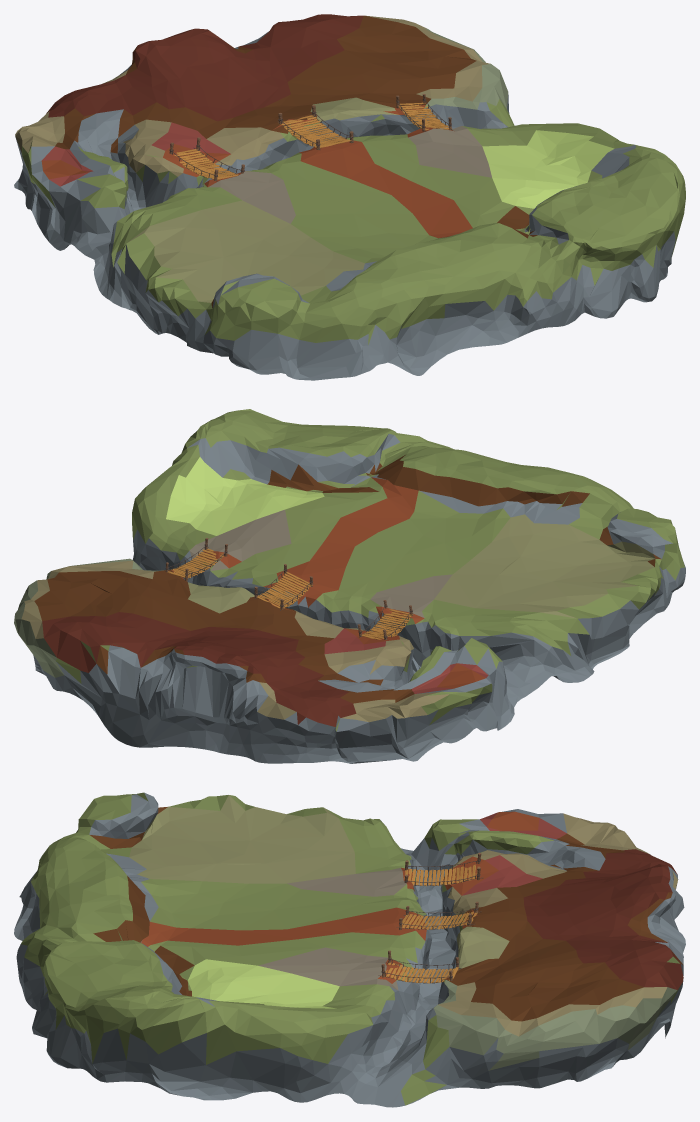
File: TerrenoComCor.fbx
3 renders of one model, top to bottom at view 1: azimuth 30°, elevation 25°; view 2: azimuth 150°, elevation 25°; view 3: azimuth 270°, elevation 25°, orthographic. The views are drawn at different scales.
Visible parts, largest first — view 1: Plane.001, Cylinder.007, Cylinder.001, Cylinder.000; view 2: Plane.001, Cylinder.007, Cylinder.001, Cylinder.000; view 3: Plane.001, Cylinder.001, Cylinder.000, Cylinder.007.
Part boxes in pixels (x1,y1,x2,y2): Plane.001: [14, 14, 685, 380]; Cylinder.007: [277, 105, 353, 149]; Cylinder.001: [169, 137, 244, 181]; Cylinder.000: [396, 94, 452, 131]; Plane.001: [14, 409, 685, 763]; Cylinder.007: [254, 564, 313, 610]; Cylinder.001: [357, 600, 413, 639]; Cylinder.000: [165, 538, 228, 581]; Plane.001: [14, 792, 685, 1107]; Cylinder.001: [402, 852, 483, 886]; Cylinder.000: [378, 950, 461, 983]; Cylinder.007: [396, 901, 481, 930].
Bounding box in the file's own units: 12869 × 2905 × 14757.
